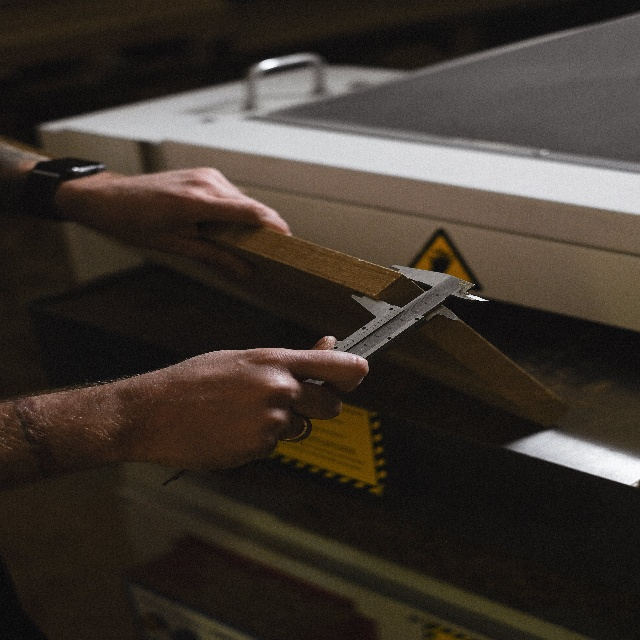Sin_guantes: (141, 335, 371, 477), (112, 156, 293, 278)
